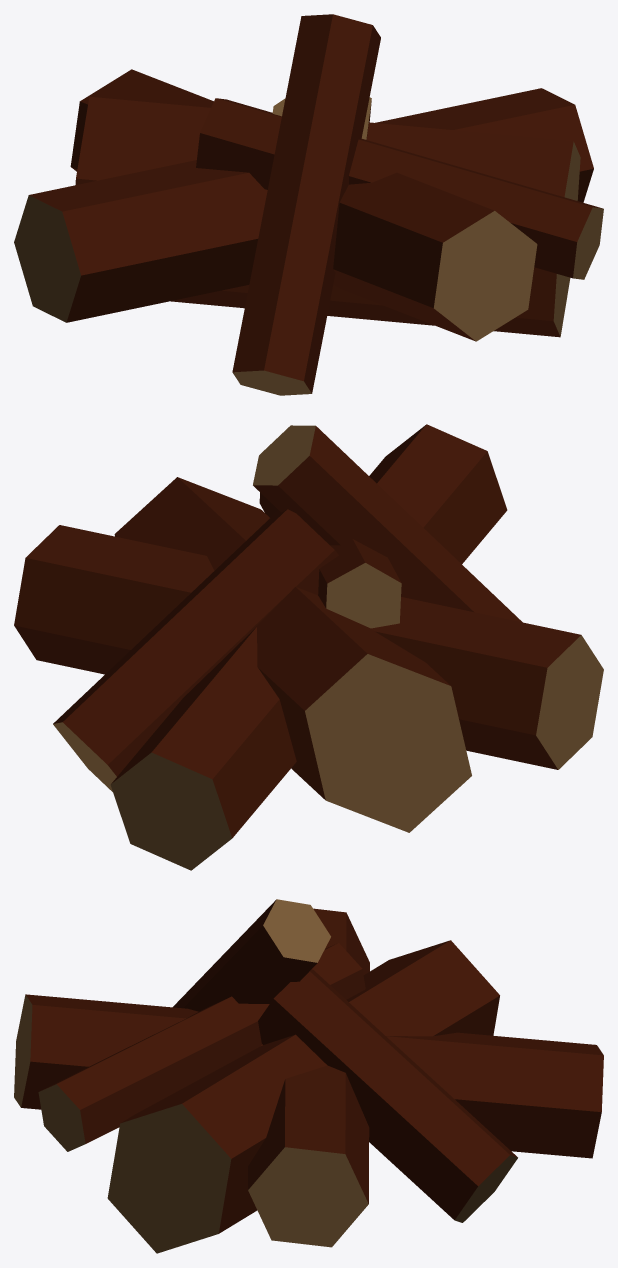
The model's file is big_fire.fbx.
3 views of the same model, one above another, from view 1: azimuth 30°, elevation 25°; view 2: azimuth 150°, elevation 25°; view 3: azimuth 270°, elevation 25° (orthographic). The views are drawn at different scales.
Parts seen in each view (by area): view 1: Cylinder_1, Cylinder_4, Cylinder_2, Cylinder, Cylinder_5; view 2: Cylinder_1, Cylinder, Cylinder_2, Cylinder_3, Cylinder_4, Cylinder_5; view 3: Cylinder, Cylinder_2, Cylinder_3, Cylinder_1, Cylinder_5, Cylinder_4.
Part boxes in pixels (<box>): Cylinder_1: <box>14,88,593,322</box>; Cylinder_4: <box>232,14,380,395</box>; Cylinder_2: <box>70,69,537,341</box>; Cylinder: <box>75,96,580,337</box>; Cylinder_5: <box>196,98,603,279</box>; Cylinder_1: <box>14,525,603,769</box>; Cylinder: <box>114,477,471,832</box>; Cylinder_2: <box>110,424,507,870</box>; Cylinder_3: <box>53,509,338,791</box>; Cylinder_4: <box>253,425,522,622</box>; Cylinder_5: <box>259,492,401,628</box>; Cylinder: <box>107,940,499,1253</box>; Cylinder_2: <box>14,994,603,1158</box>; Cylinder_3: <box>258,969,517,1222</box>; Cylinder_1: <box>248,908,369,1247</box>; Cylinder_5: <box>38,943,365,1151</box>; Cylinder_4: <box>173,899,330,1011</box>.
Size of the model in its own units: 318 by 189 by 349.
